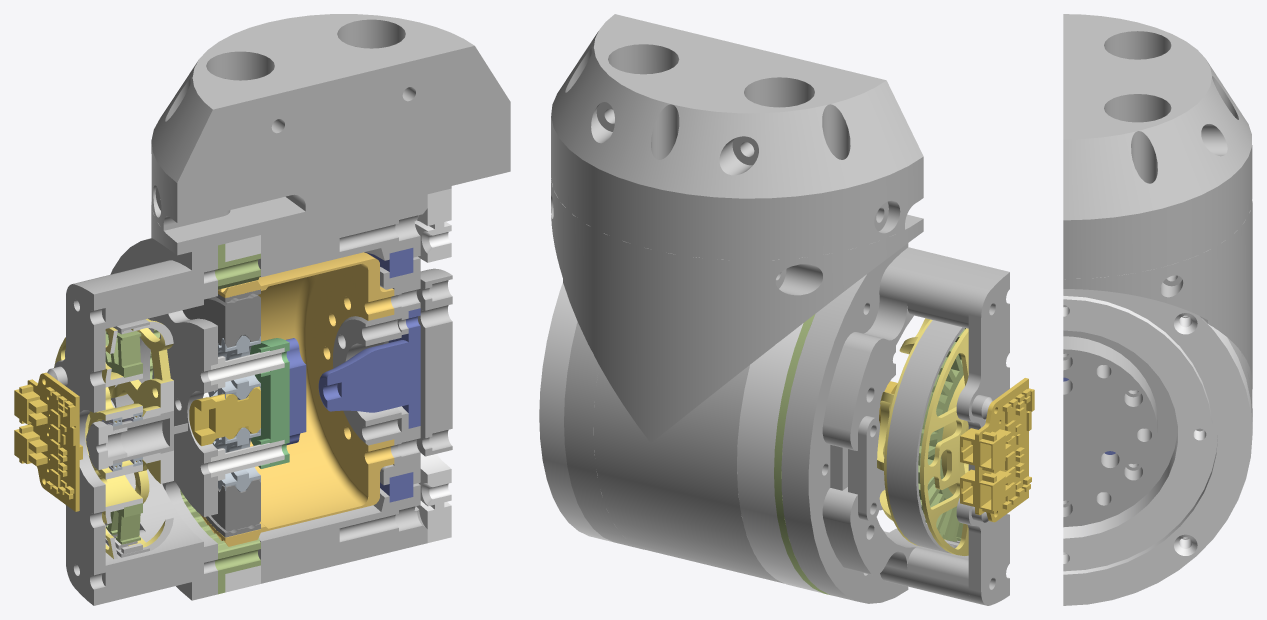
The model's file is MechanicalDesign.glb.
The picture shows the model from 3 angles, left to right: view 1: azimuth 30°, elevation 25°; view 2: azimuth 150°, elevation 25°; view 3: azimuth 270°, elevation 25°; orthographic projection. The views are drawn at different scales.
Parts seen in each view (by area): view 1: Test Export; view 2: Test Export; view 3: Test Export.
Boxes of the visible parts, x1=… form: Test Export: x1=14, y1=14, x2=510, y2=605; Test Export: x1=539, y1=14, x2=1034, y2=605; Test Export: x1=1063, y1=14, x2=1252, y2=605.
Size of the model in its own units: 18.82 by 19.5 by 7.
